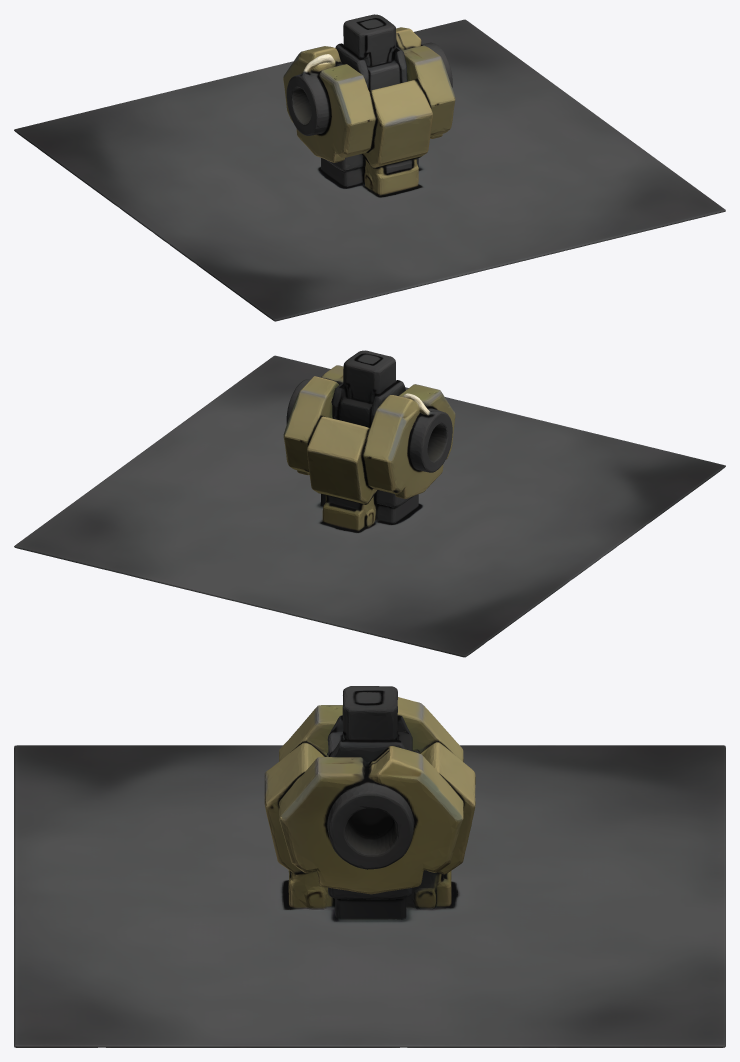
Rendered from torso.glb.
The picture shows the model from 3 angles, top to bottom: view 1: azimuth 30°, elevation 25°; view 2: azimuth 150°, elevation 25°; view 3: azimuth 270°, elevation 25°; orthographic projection. The views are drawn at different scales.
Visible parts, largest first — view 1: geometry_0; view 2: geometry_0; view 3: geometry_0.
Part boxes in pixels (x1=…): geometry_0: x1=14, y1=14, x2=725, y2=321; geometry_0: x1=14, y1=350, x2=725, y2=657; geometry_0: x1=14, y1=686, x2=725, y2=1047.
Size of the model in its own units: 1 by 0.3143 by 1.
Materials: 1 (1 with a texture image).
